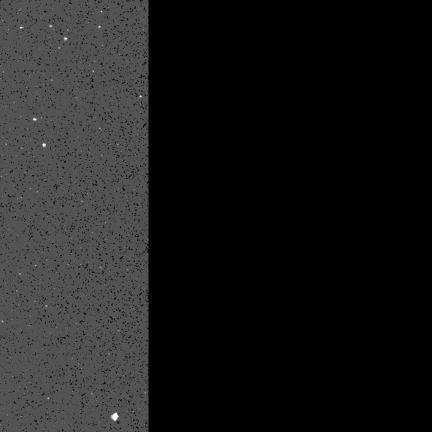blob: (33, 118, 38, 122), (64, 38, 68, 41), (43, 144, 46, 147)
